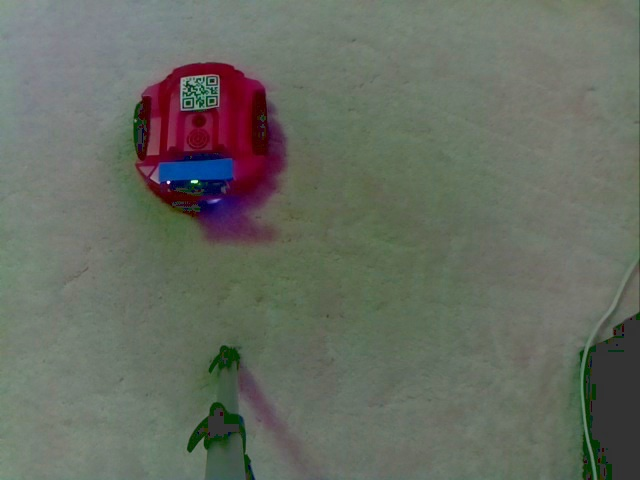board: (152, 145, 240, 201)
chassis: (130, 59, 278, 213)
